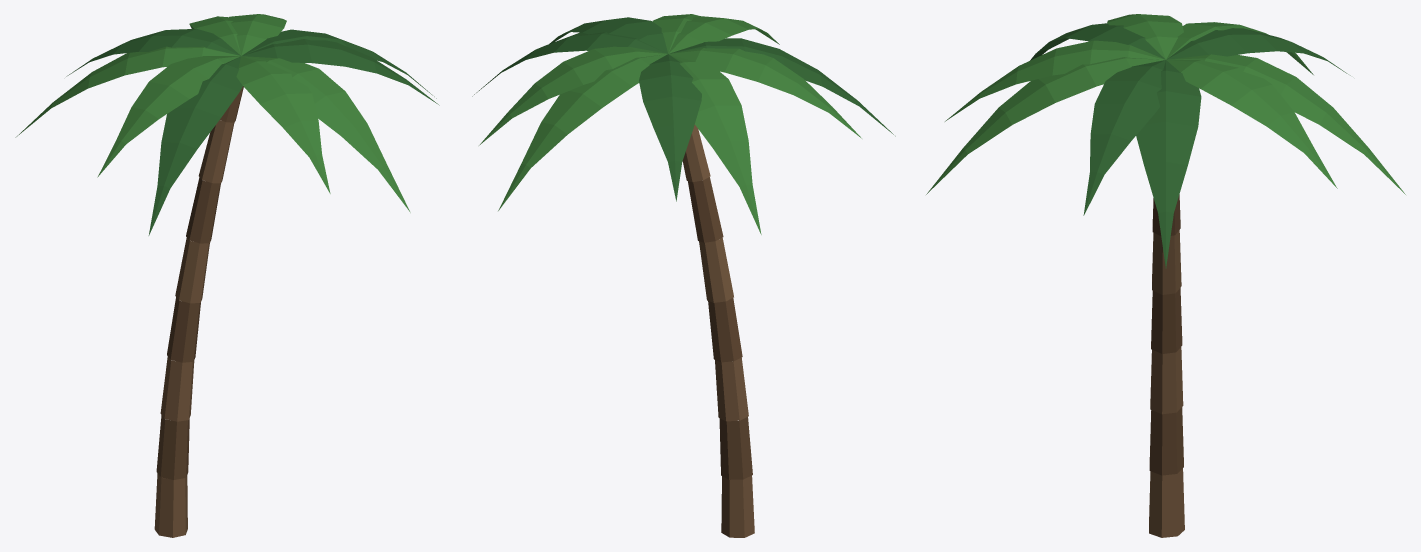
Rendered from prop_palm_tree.glb.
3 renders of one model, left to right at view 1: azimuth 30°, elevation 25°; view 2: azimuth 150°, elevation 25°; view 3: azimuth 270°, elevation 25°, orthographic. The views are drawn at different scales.
Parts seen in each view (by area): view 1: prop_palm_tree; view 2: prop_palm_tree; view 3: prop_palm_tree.
Part boxes in pixels (x1=…): prop_palm_tree: x1=15, y1=14, x2=439, y2=537; prop_palm_tree: x1=472, y1=14, x2=895, y2=537; prop_palm_tree: x1=926, y1=14, x2=1405, y2=537.
Size of what is drawn, in the model's own units: 6.31 by 7.65 by 6.47.
